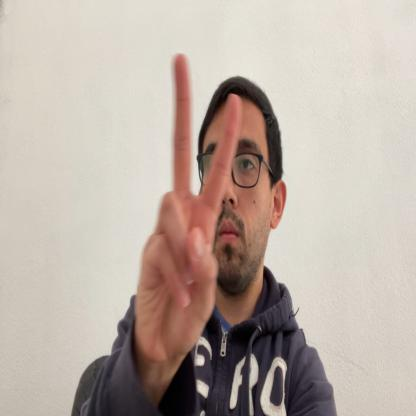V: (134, 53, 242, 385)
